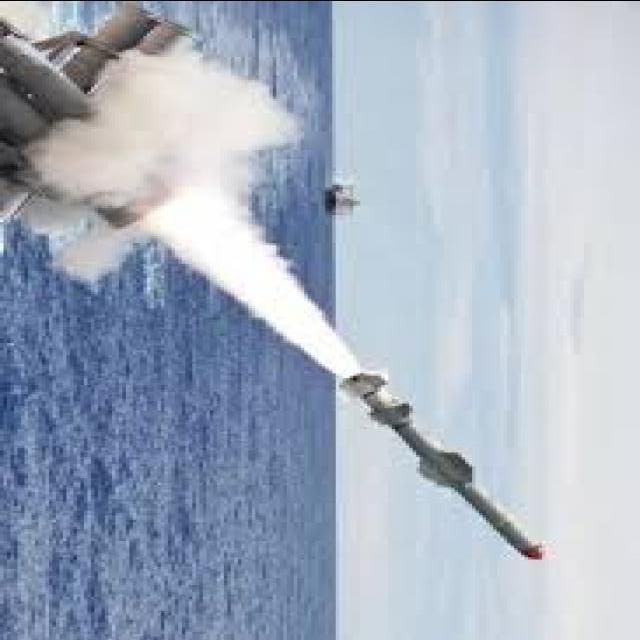missile: (332, 367, 548, 567)
